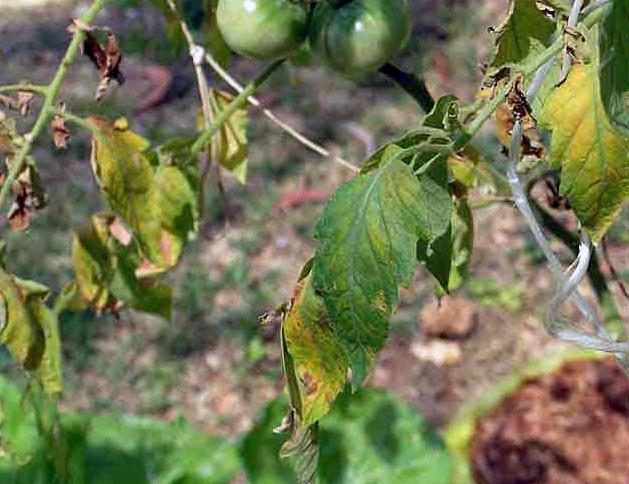Tomato mold leaf: (271, 159, 434, 452), (533, 49, 629, 262), (77, 117, 174, 260)
